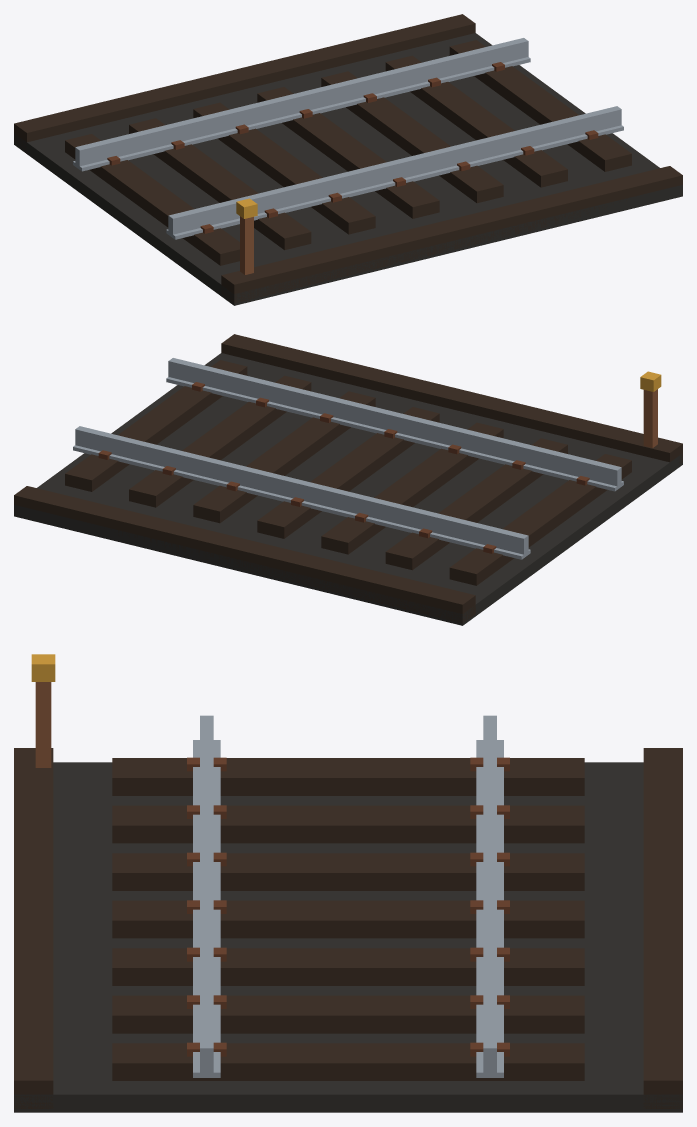
The model's file is switchyard_path_ground.glb.
3 renders of one model, top to bottom at view 1: azimuth 30°, elevation 25°; view 2: azimuth 150°, elevation 25°; view 3: azimuth 270°, elevation 25°, orthographic. The views are drawn at different scales.
Parts seen in each view (by area): view 1: lane_bed, lane_kerb1, lane_kerb-1, lane_track_rail-1, lane_track_rail1, lane_track_sleeper0, lane_track_sleeper3, lane_track_sleeper2, lane_track_sleeper5, lane_track_sleeper6, lane_track_sleeper4, lane_track_sleeper1 (+3 smaller); view 2: lane_bed, lane_kerb-1, lane_kerb1, lane_track_rail-1, lane_track_rail1, lane_track_sleeper0, lane_track_sleeper3, lane_track_sleeper2, lane_track_sleeper5, lane_track_sleeper1, lane_track_sleeper6, lane_track_sleeper4 (+3 smaller); view 3: lane_bed, lane_track_sleeper5, lane_track_sleeper1, lane_track_sleeper3, lane_track_sleeper6, lane_track_sleeper0, lane_track_sleeper2, lane_track_sleeper4, lane_kerb-1, lane_kerb1, lane_track_rail-1, lane_track_rail1 (+4 smaller).
Part boxes in pixels (x1=…): lane_bed: x1=14, y1=33, x2=682, y2=305; lane_kerb1: x1=221, y1=166, x2=682, y2=302; lane_kerb-1: x1=14, y1=14, x2=475, y2=150; lane_track_rail-1: x1=75, y1=38, x2=528, y2=168; lane_track_rail1: x1=168, y1=106, x2=621, y2=235; lane_track_sleeper0: x1=65, y1=134, x2=239, y2=265; lane_track_sleeper3: x1=257, y1=87, x2=439, y2=218; lane_track_sleeper2: x1=193, y1=102, x2=375, y2=234; lane_track_sleeper5: x1=385, y1=55, x2=567, y2=187; lane_track_sleeper6: x1=449, y1=40, x2=631, y2=171; lane_track_sleeper4: x1=321, y1=71, x2=503, y2=203; lane_track_sleeper1: x1=129, y1=118, x2=311, y2=250; lane_bed: x1=14, y1=353, x2=682, y2=625; lane_kerb-1: x1=14, y1=486, x2=475, y2=623; lane_kerb1: x1=221, y1=334, x2=682, y2=465; lane_track_rail-1: x1=75, y1=426, x2=528, y2=556; lane_track_rail1: x1=168, y1=358, x2=621, y2=486; lane_track_sleeper0: x1=449, y1=454, x2=631, y2=585; lane_track_sleeper3: x1=257, y1=407, x2=439, y2=538; lane_track_sleeper2: x1=321, y1=422, x2=503, y2=554; lane_track_sleeper5: x1=129, y1=375, x2=311, y2=507; lane_track_sleeper1: x1=385, y1=438, x2=567, y2=570; lane_track_sleeper6: x1=65, y1=360, x2=247, y2=491; lane_track_sleeper4: x1=193, y1=391, x2=375, y2=523; lane_bed: x1=14, y1=762, x2=682, y2=1112; lane_track_sleeper5: x1=112, y1=995, x2=584, y2=1033; lane_track_sleeper1: x1=112, y1=805, x2=584, y2=843; lane_track_sleeper3: x1=112, y1=900, x2=584, y2=938; lane_track_sleeper6: x1=112, y1=1043, x2=584, y2=1080; lane_track_sleeper0: x1=112, y1=758, x2=584, y2=795; lane_track_sleeper2: x1=112, y1=853, x2=584, y2=890; lane_track_sleeper4: x1=112, y1=948, x2=584, y2=985; lane_kerb-1: x1=643, y1=748, x2=682, y2=1108; lane_kerb1: x1=14, y1=748, x2=53, y2=1108; lane_track_rail-1: x1=483, y1=715, x2=496, y2=1076; lane_track_rail1: x1=200, y1=715, x2=213, y2=1076.
Size of the model in its own units: 4 by 0.77 by 3.4.
